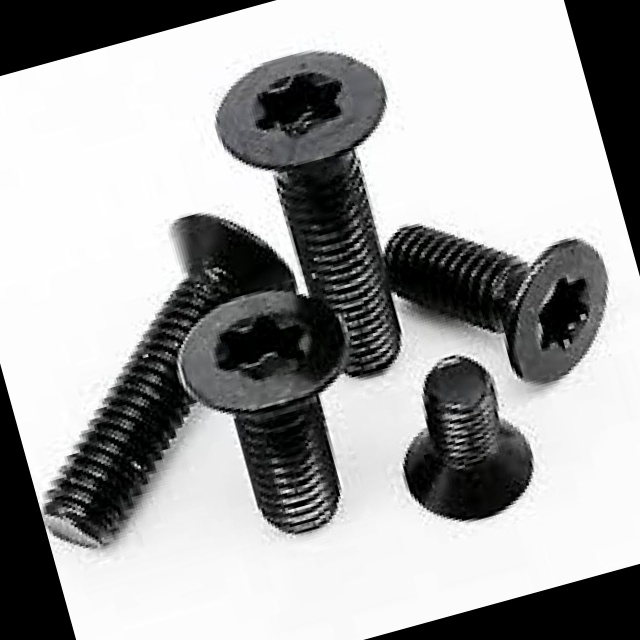torx: (164, 270, 364, 427), (199, 29, 400, 179), (483, 228, 634, 392)
